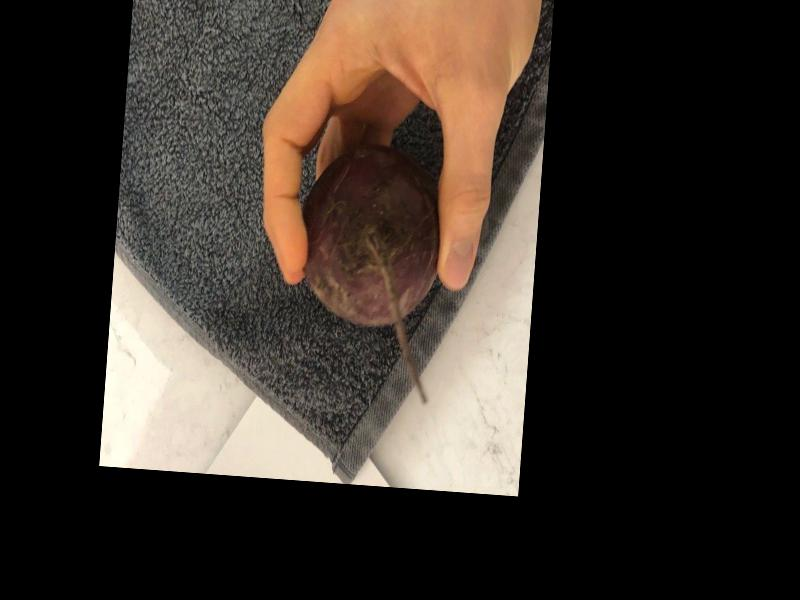Beet: (289, 141, 446, 405)
